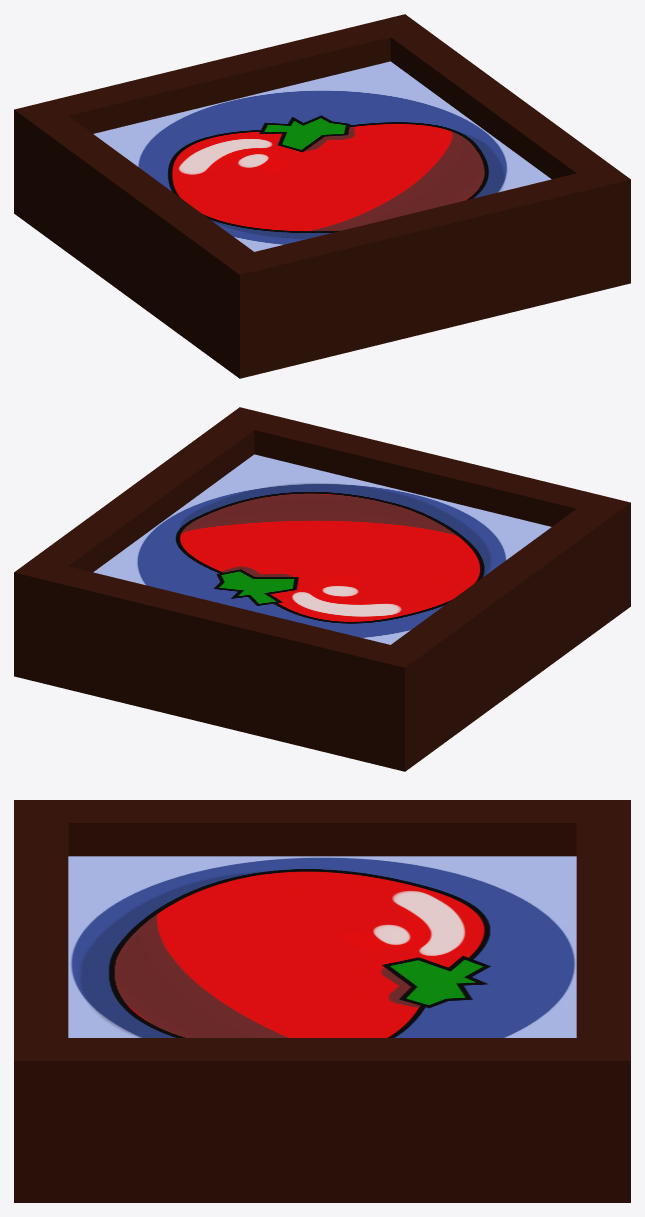
File: disk_tomat.FBX
3 renders of one model, top to bottom at view 1: azimuth 30°, elevation 25°; view 2: azimuth 150°, elevation 25°; view 3: azimuth 270°, elevation 25°, orthographic. The views are drawn at different scales.
Visible parts, largest first — view 1: Box053; view 2: Box053; view 3: Box053.
Boxes of the visible parts, x1,y1,x2,y2 form: Box053: [14, 14, 630, 378]; Box053: [14, 407, 630, 771]; Box053: [14, 800, 630, 1202].
Bounding box in the file's own units: 197 × 49.99 × 197.
Materials: 2 (1 with a texture image).
